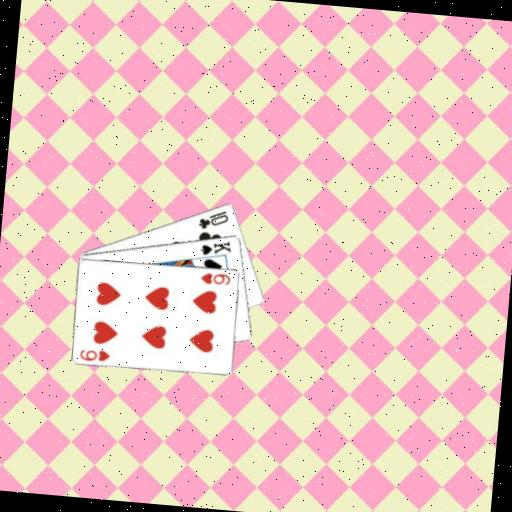10C: (195, 205, 231, 232)
6H: (198, 269, 233, 287), (77, 346, 112, 364)
KS: (197, 236, 234, 259)
